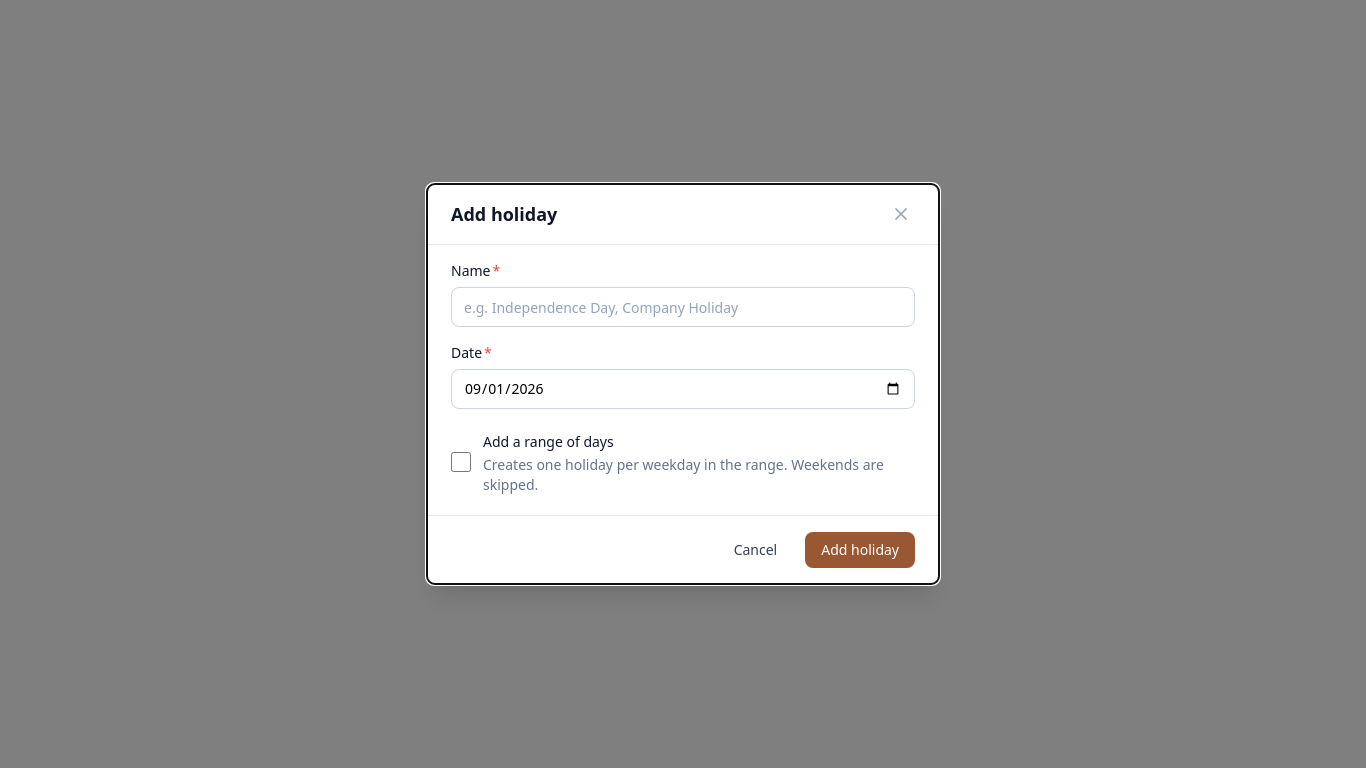
it: HolidayFormModal › surfaces the server message when the save is rejected
This screenshot has width=1366, height=768.
Type "Duplicate Day" into the field labelled "Name*" at (683, 307), box [451,287,915,327]
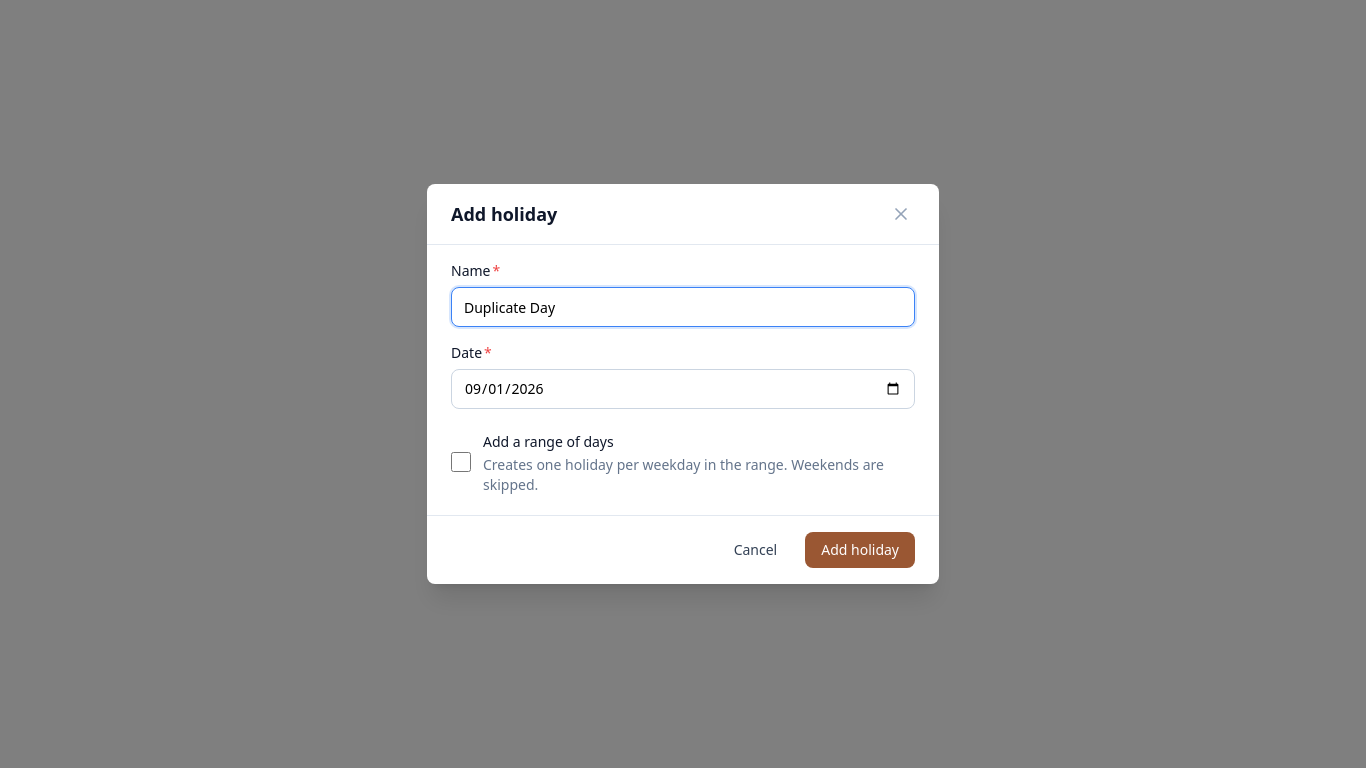
Type "2026-09-07" into the date field labelled "Date*" at (683, 389), box [451,369,915,409]
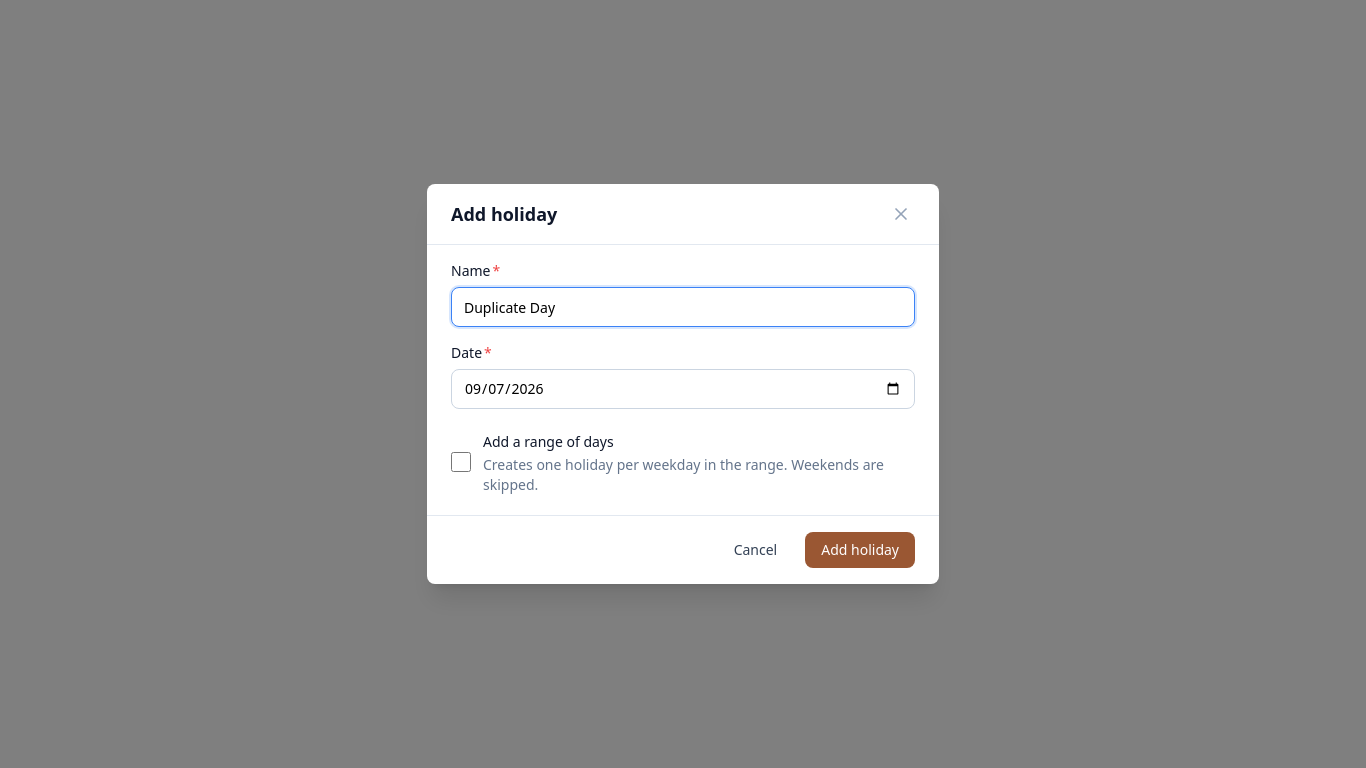
Click the button "Add holiday" at (860, 550), box [805,532,915,568]
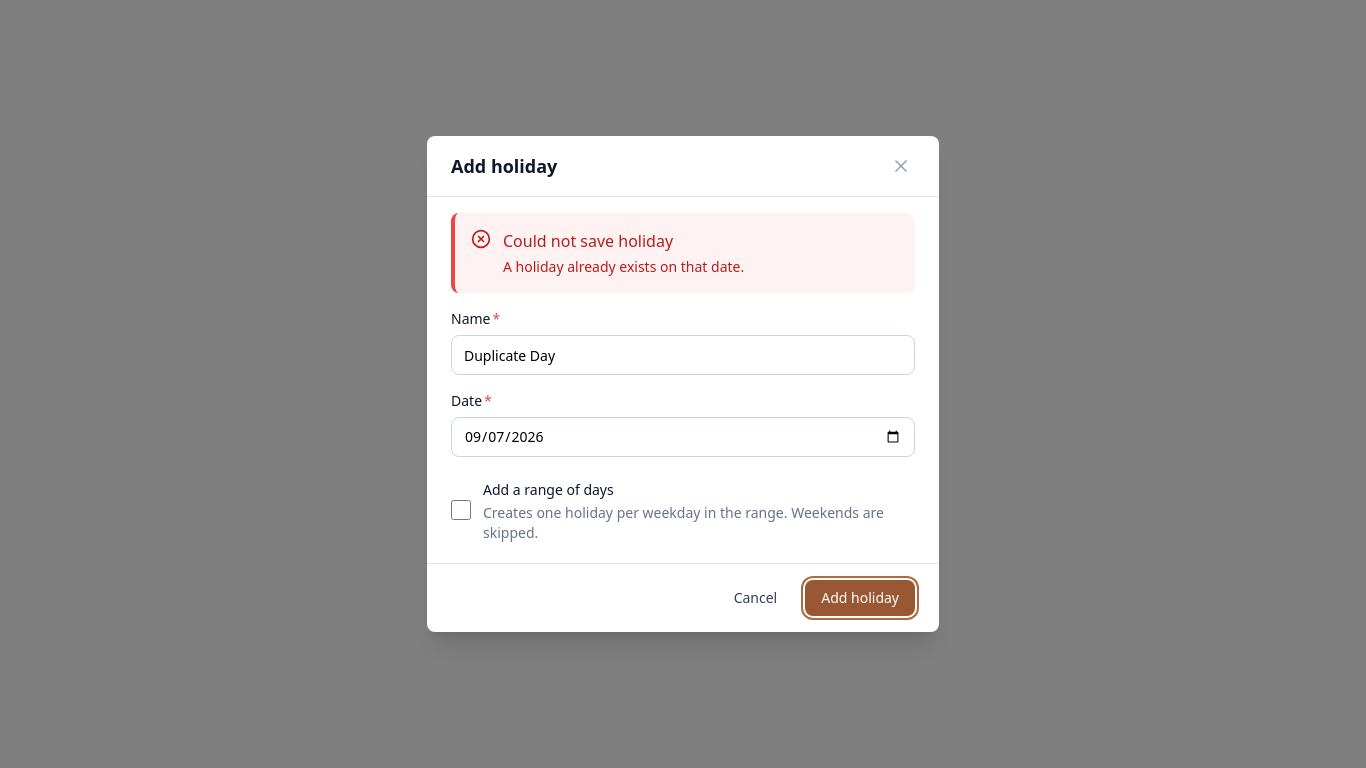
Check: the text "A holiday already exists on that date." is shown, box [503,257,744,276]
